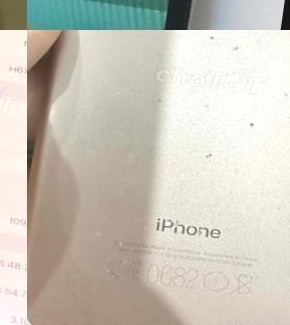scratch: (77, 203, 147, 289), (196, 99, 218, 113), (193, 149, 219, 160), (273, 89, 290, 102), (240, 118, 261, 127), (229, 42, 243, 54), (205, 31, 216, 43), (153, 96, 167, 104)
